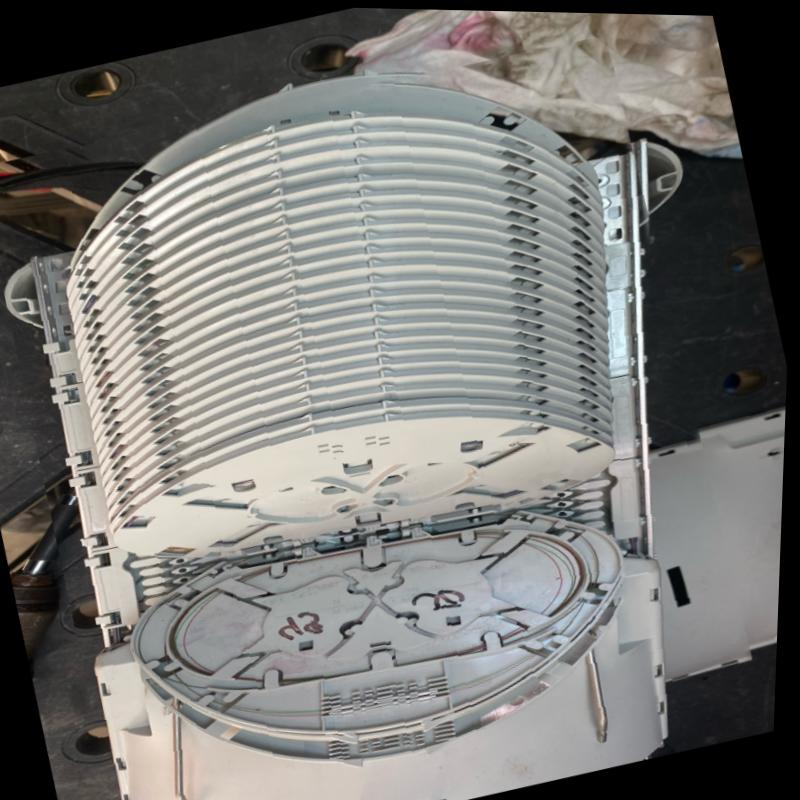NT-Muffen: (21, 72, 689, 800)
